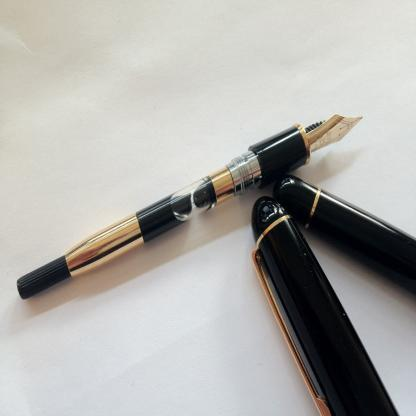Pen: (15, 112, 361, 299), (249, 198, 402, 415), (275, 171, 416, 300)
